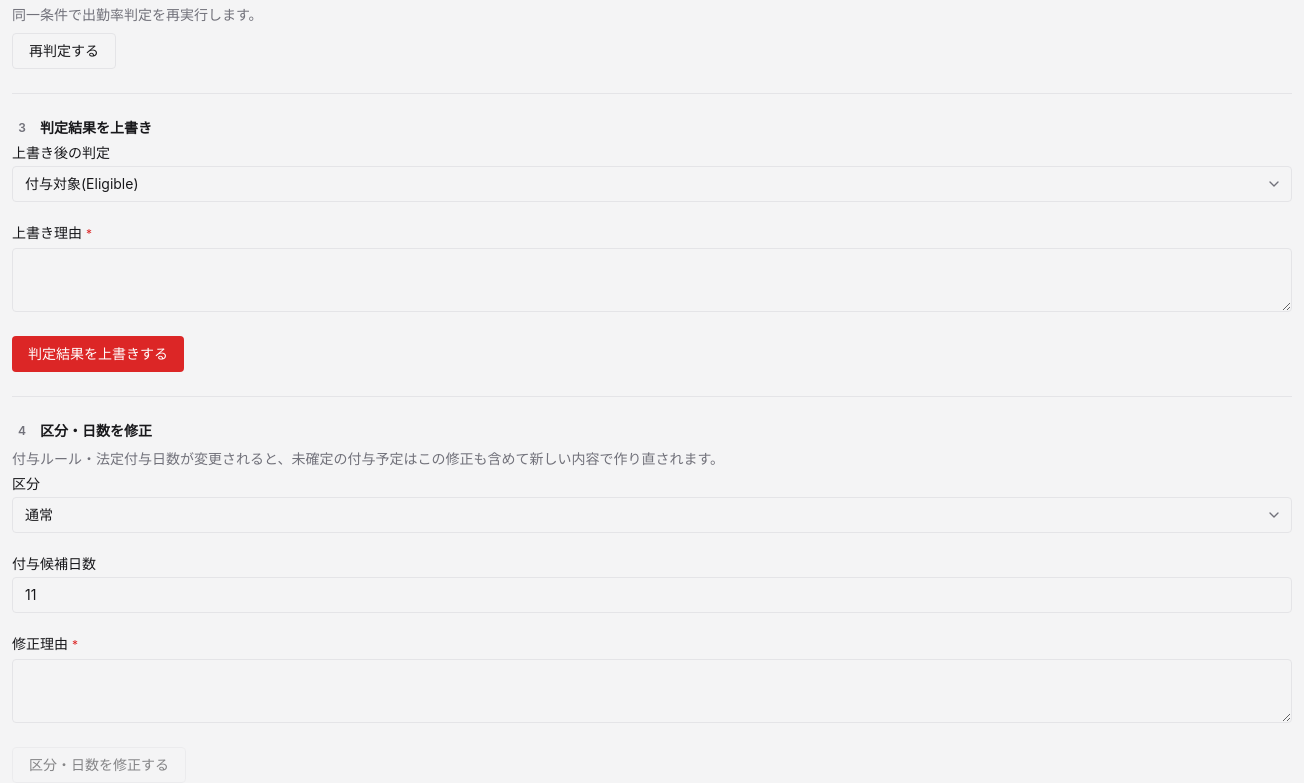
Test: PaidLeaveScheduleAssessmentPanel › 区分・日数を修正(step 4) › blocks submission and shows a message when the days input is cleared
The width and height of the screenshot is (1304, 783).
(page scrolled)
Clear the number field labelled "付与候補日数": [652, 595] box [12, 577, 1292, 613]
(page scrolled)
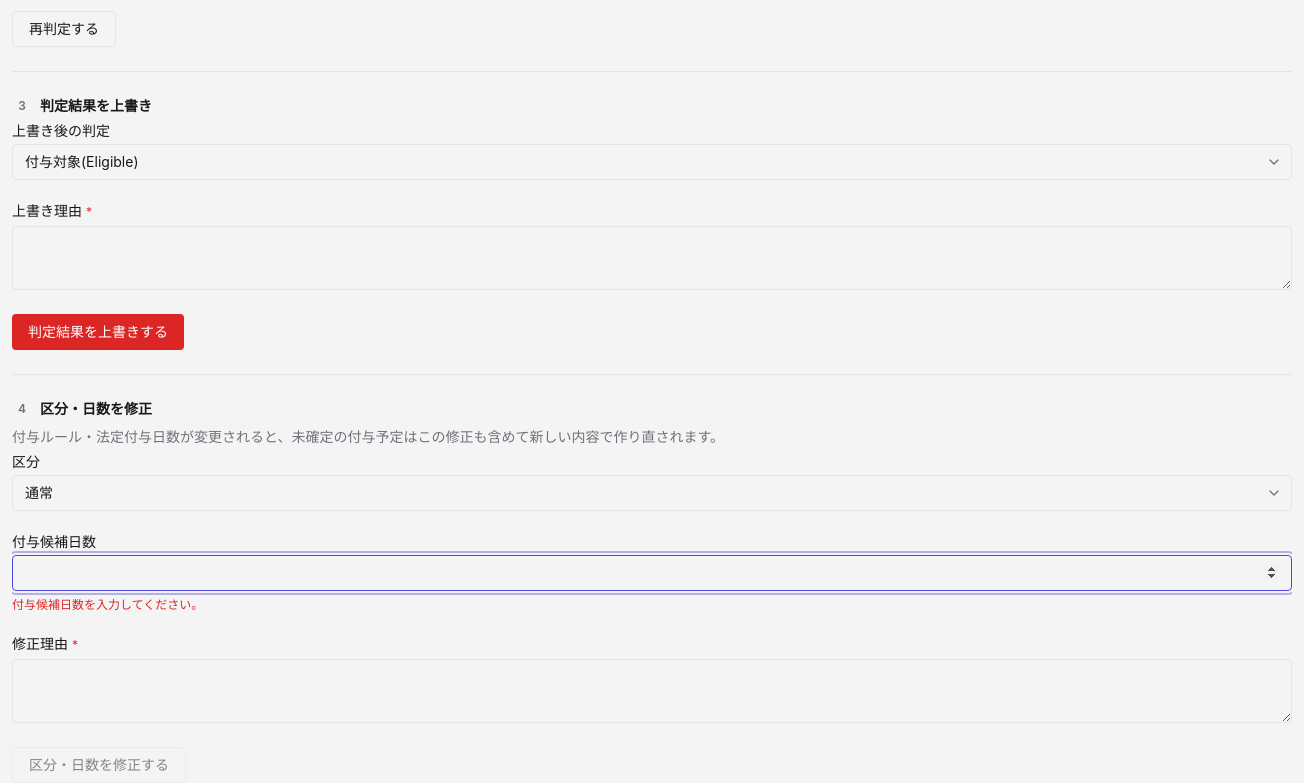
Expected: the button "区分・日数を修正する" is disabled, [12, 747, 186, 782]
Now the text "付与候補日数を入力してください。" is shown, box [12, 597, 203, 612]
